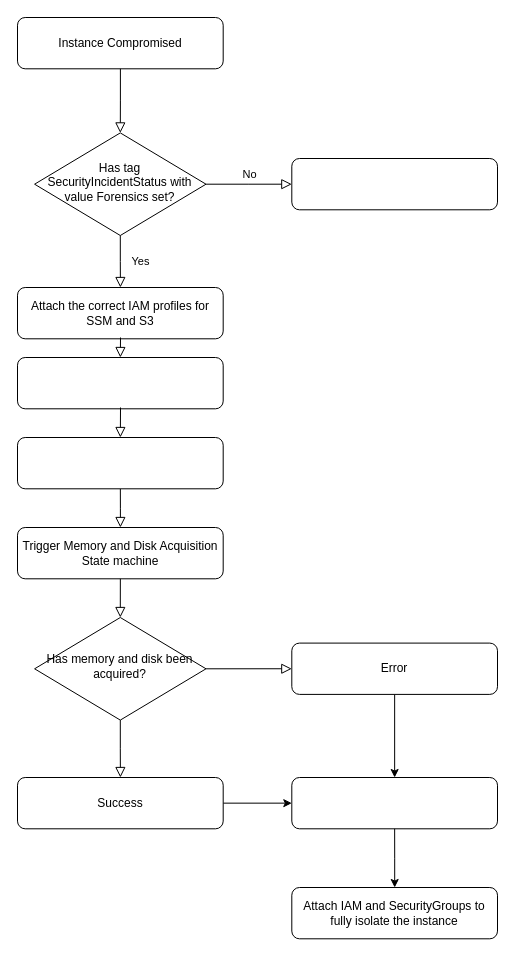
This 515x957 diagram has some shape labels left out. Here are the shapes that lost their labels. From the top down, the box of each, then its label:
(291, 158, 498, 210): Do nothing
(16, 356, 223, 409): Send SNS message to Slack SNS Queue
(16, 436, 223, 489): Send SNS message to SecurityIncident Queue
(291, 776, 498, 829): Tag the EC2 instance with tag "Contain"
